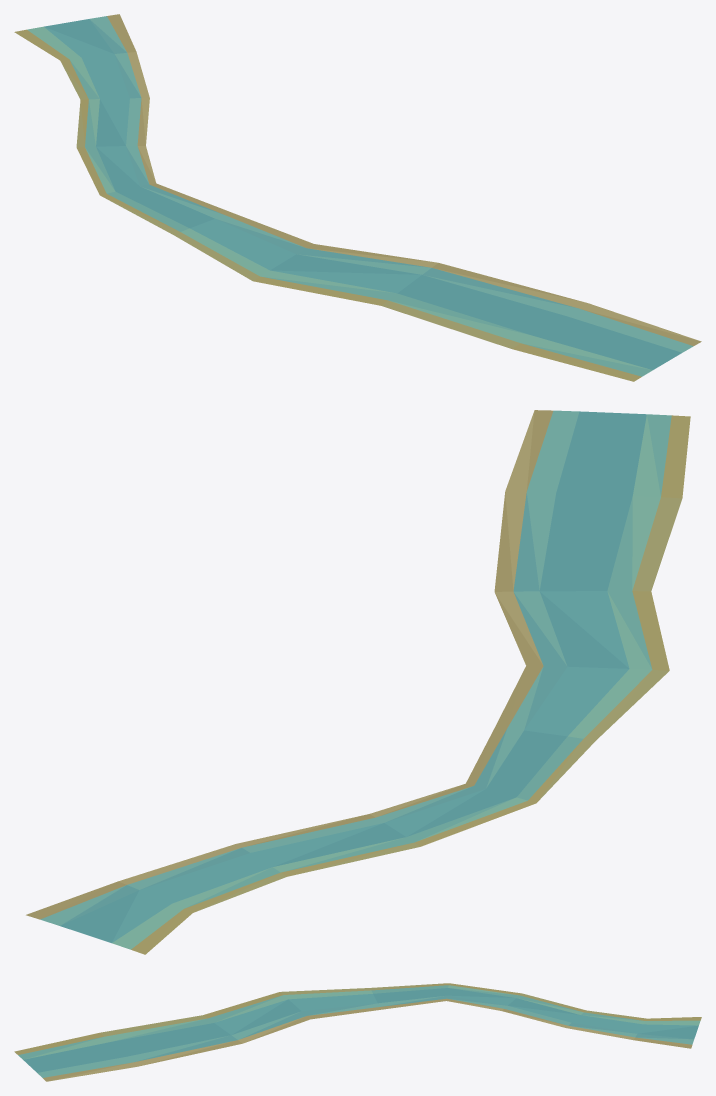
Rendered from skyhill-creek.glb.
3 views of the same model, one above another, from view 1: azimuth 30°, elevation 25°; view 2: azimuth 150°, elevation 25°; view 3: azimuth 270°, elevation 25° (orthographic). The views are drawn at different scales.
Parts seen in each view (by area): view 1: skyhill-creek; view 2: skyhill-creek; view 3: skyhill-creek.
Boxes of the visible parts, <box> form: skyhill-creek: <box>14,14,701,381</box>; skyhill-creek: <box>26,410,690,954</box>; skyhill-creek: <box>14,983,701,1081</box>.
Size of the model in its own units: 29.08 by 0.033 by 85.69.
1 material, 1 textured.
